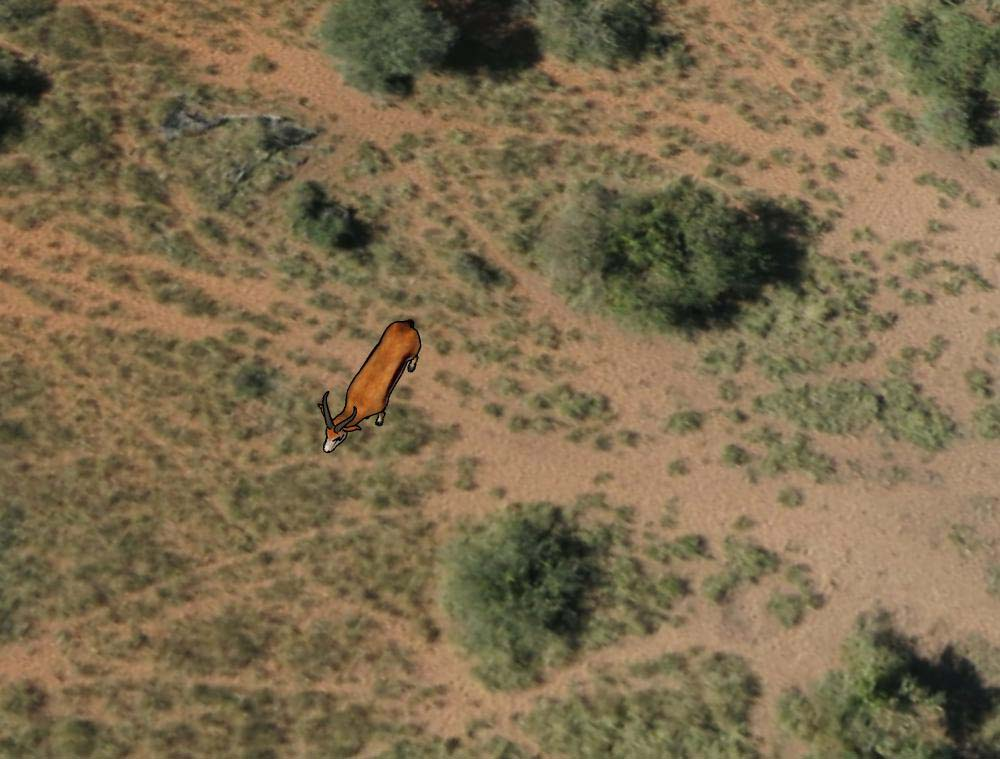springbok: (318, 313, 424, 456)
